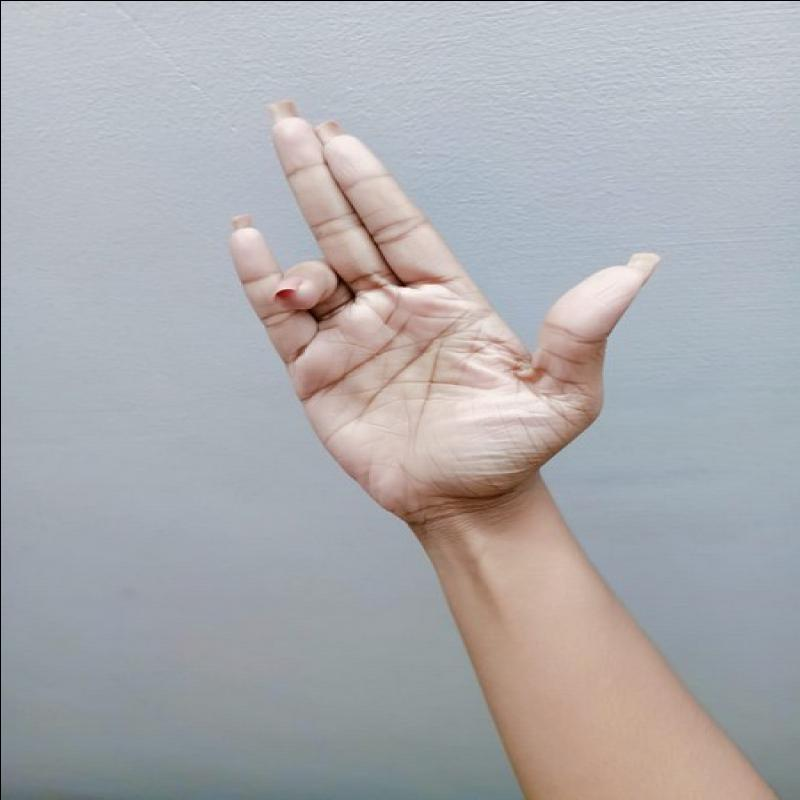Pathaaka: (219, 84, 674, 522)
